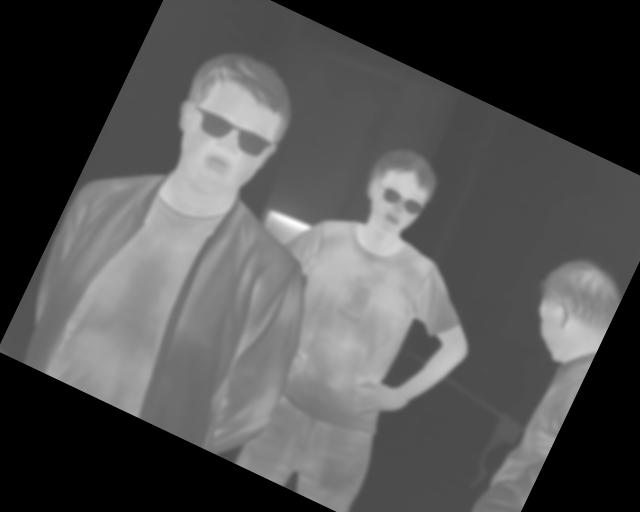face: (150, 36, 309, 214), (350, 137, 448, 244)
